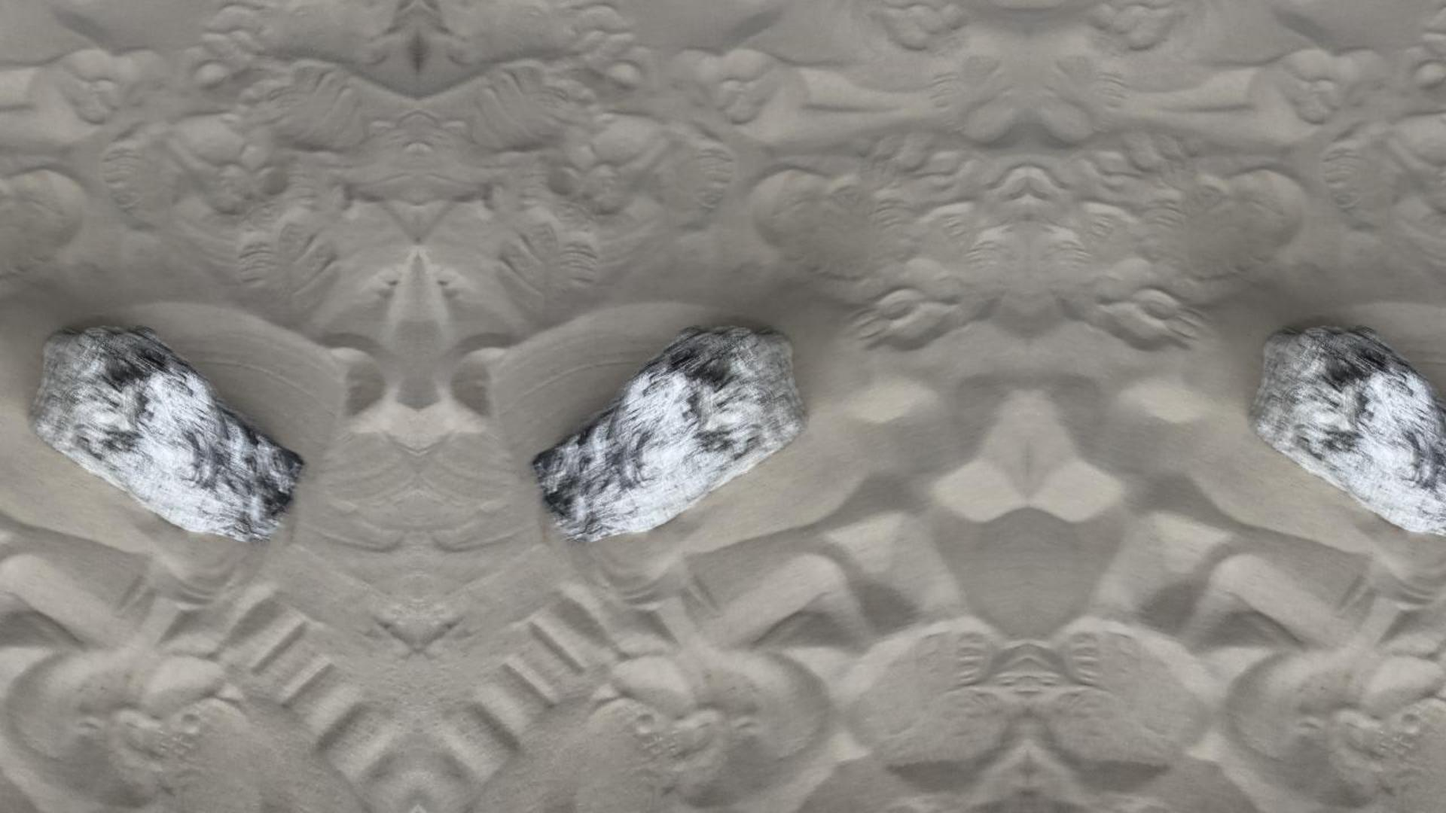rock: (532, 326, 804, 540), (31, 326, 303, 540), (1251, 326, 1445, 534)
